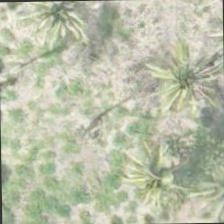Kelapa_Sawit: (109, 131, 201, 222), (142, 38, 224, 130), (8, 0, 99, 59)
